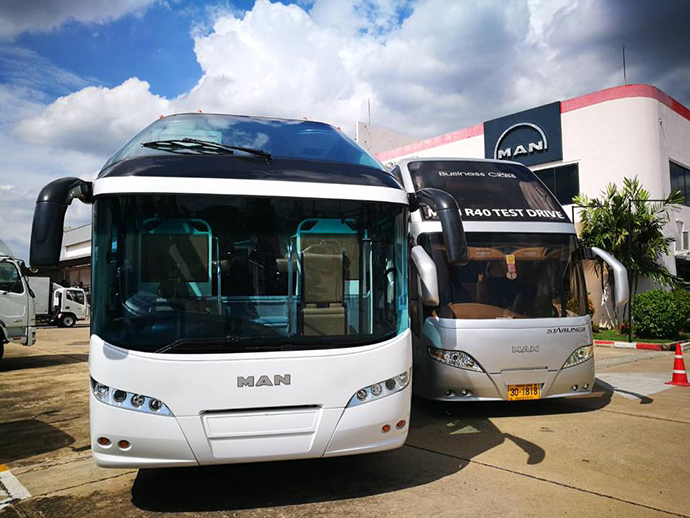bus: (79, 107, 410, 462), (414, 151, 599, 409)
